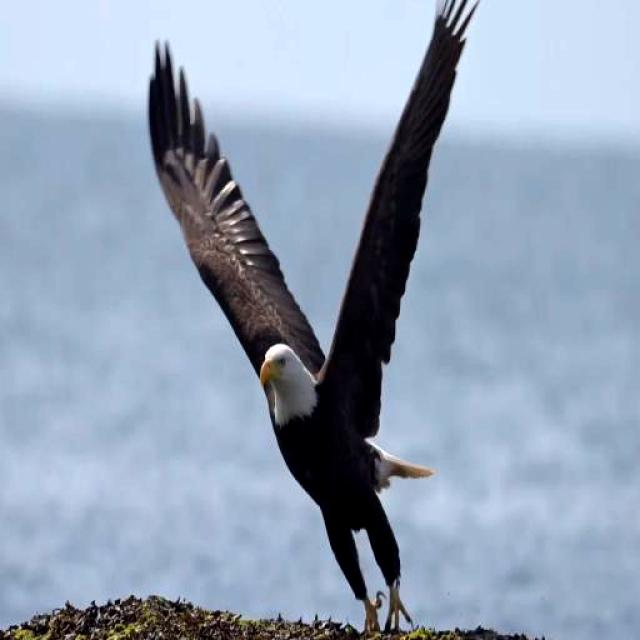airplane: (130, 0, 531, 628)
